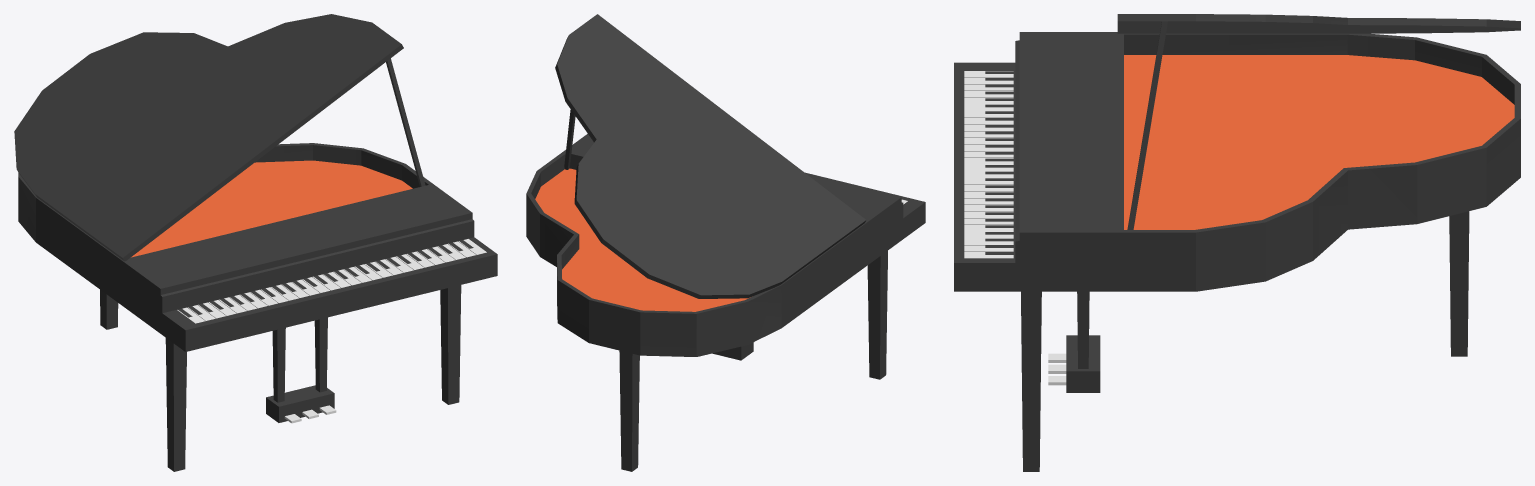
The model's file is musical_instrument_011.glb.
The picture shows the model from 3 angles, left to right: view 1: azimuth 30°, elevation 25°; view 2: azimuth 150°, elevation 25°; view 3: azimuth 270°, elevation 25°; orthographic projection. The views are drawn at different scales.
Parts seen in each view (by area): view 1: musical_instrument_011; view 2: musical_instrument_011; view 3: musical_instrument_011.
Boxes of the visible parts, x1,y1,x2,y2 form: musical_instrument_011: (14,14,497,471); musical_instrument_011: (526,14,925,471); musical_instrument_011: (954,14,1520,471).
Bounding box in the file's own units: 1.68 × 1.73 × 2.
Materials: 1 (1 with a texture image).
